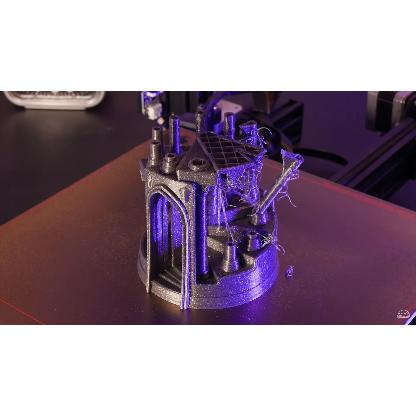fail: (220, 158, 264, 206), (246, 126, 274, 150), (260, 226, 278, 254)
